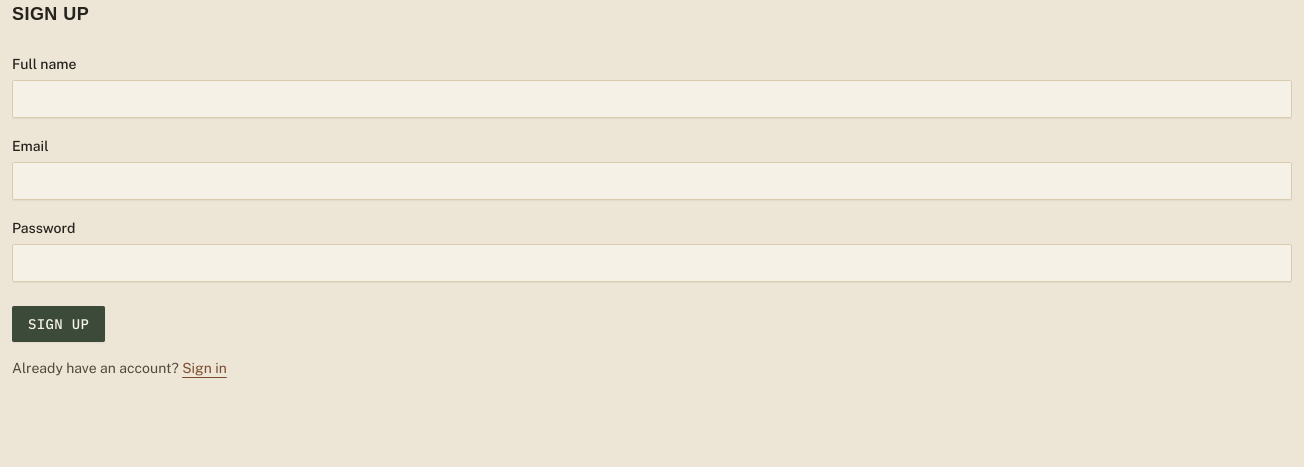
Test case: SignUpForm › shows validation errors when submitting an empty form
This screenshot has width=1304, height=467.
Click the button "Sign Up" at point(59, 324), box [12,306,105,342]
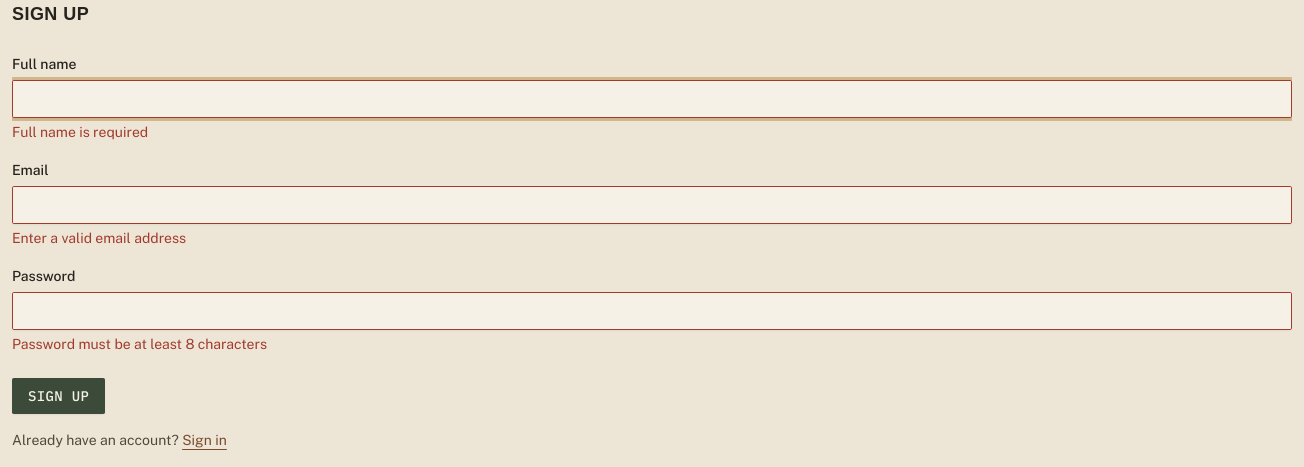
Expected: the text "Full name is required" is shown, [12,124,148,140]
Expected: the text "Enter a valid email address" is shown, [12,230,186,246]
Expected: the text "Password must be at least 8 characters" is shown, [12,336,267,352]
